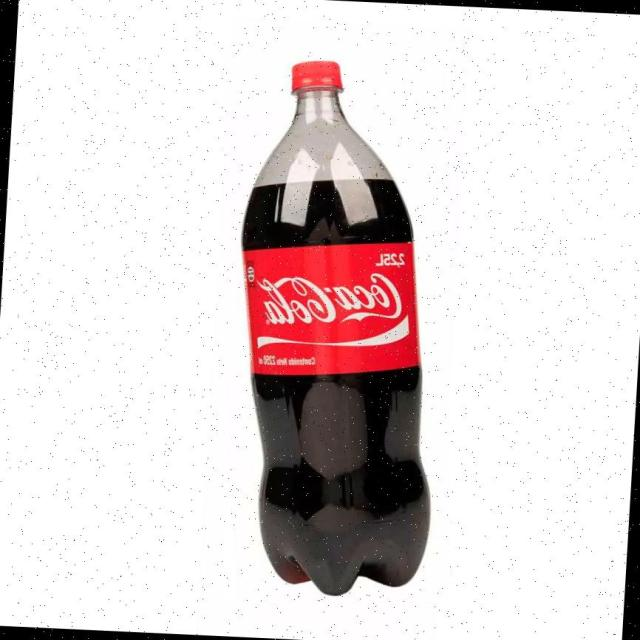coca-cola: (224, 48, 450, 602)
